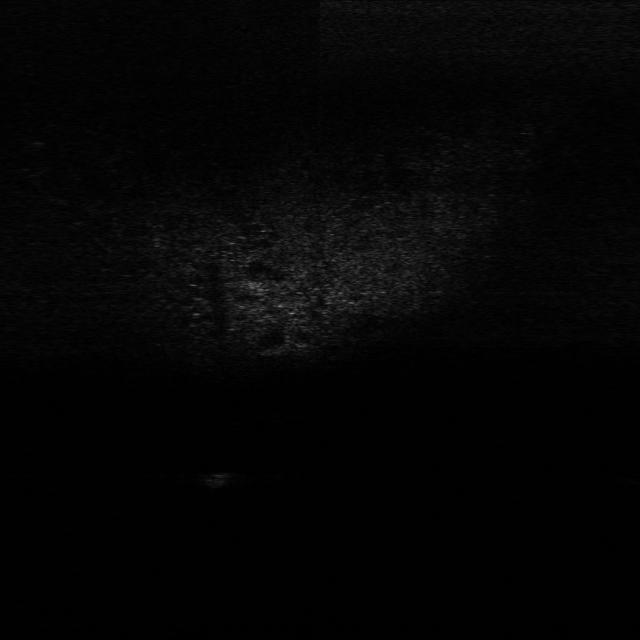cylinder: (200, 470, 236, 490)
